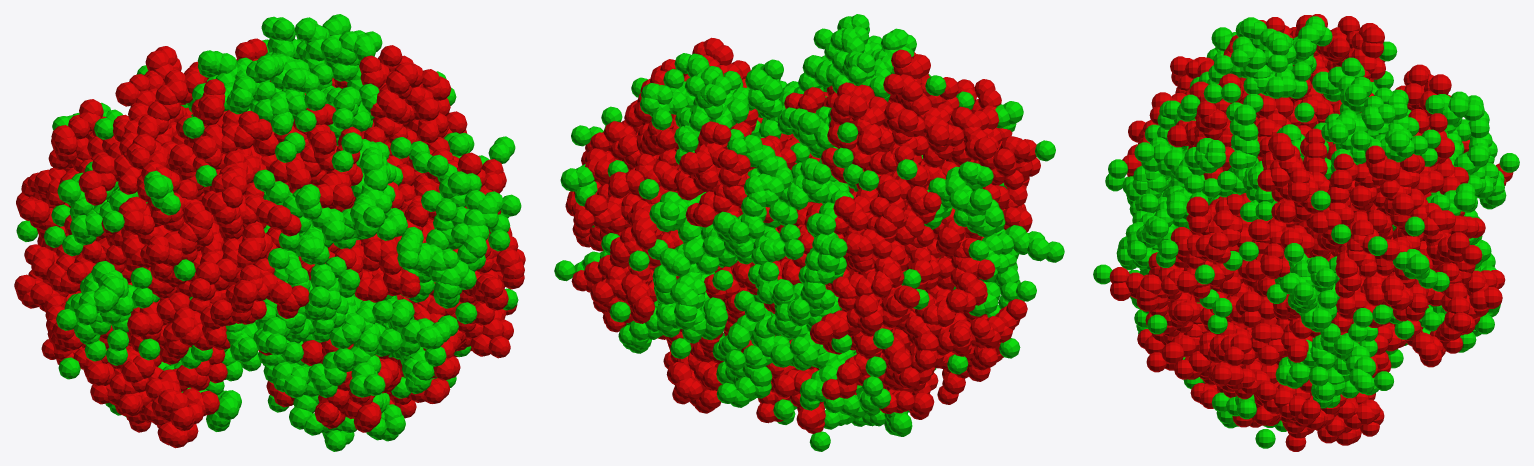
File: 4hhb__spheres__secondary-structure.glb
3 renders of one model, left to right at view 1: azimuth 30°, elevation 25°; view 2: azimuth 150°, elevation 25°; view 3: azimuth 270°, elevation 25°, orthographic. The views are drawn at different scales.
Parts seen in each view (by area): view 1: Renderer Node; view 2: Renderer Node; view 3: Renderer Node.
Boxes of the visible parts, left/top/right/bottom form: Renderer Node: left=14, top=14, right=525, bottom=451; Renderer Node: left=554, top=14, right=1064, bottom=451; Renderer Node: left=1093, top=14, right=1519, bottom=451.
Size of the model in its own units: 73.32 by 60.06 by 63.83.
